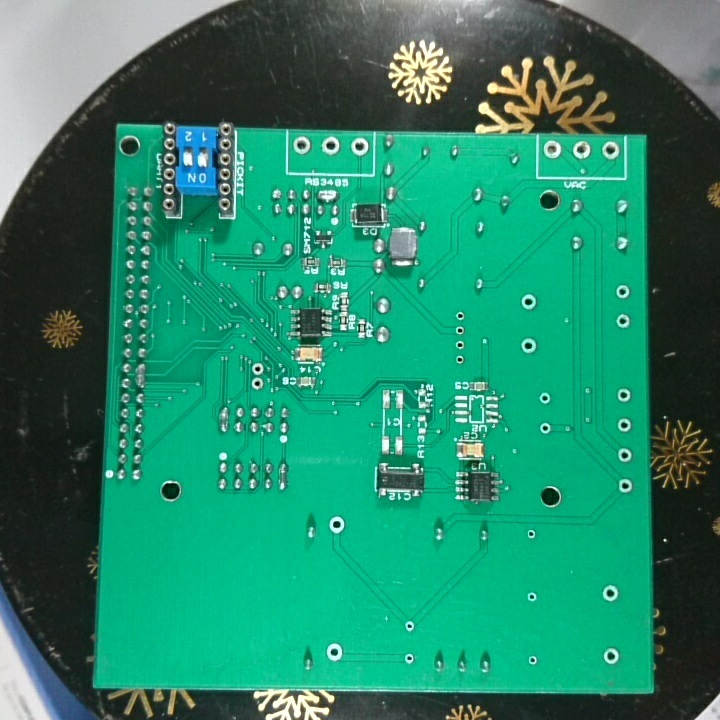F: (571, 138, 594, 162), (291, 133, 313, 157), (327, 513, 348, 538), (348, 135, 370, 158), (598, 583, 621, 605), (323, 641, 345, 664), (541, 139, 563, 161), (319, 134, 340, 157), (518, 335, 539, 358), (601, 646, 621, 669), (614, 281, 634, 303), (601, 140, 619, 163), (519, 292, 539, 312), (614, 414, 633, 435), (615, 386, 633, 404), (615, 445, 633, 463), (537, 420, 556, 437), (402, 616, 419, 635), (617, 475, 633, 495), (249, 375, 267, 392), (522, 525, 538, 543), (537, 389, 553, 407), (613, 312, 632, 327), (523, 589, 539, 606), (401, 650, 417, 667), (249, 361, 267, 376), (451, 308, 469, 323), (525, 652, 539, 669), (452, 323, 468, 337), (453, 352, 467, 367), (453, 338, 468, 352)
P: (275, 460, 292, 492), (214, 405, 231, 435), (131, 362, 149, 390), (314, 186, 341, 203)
